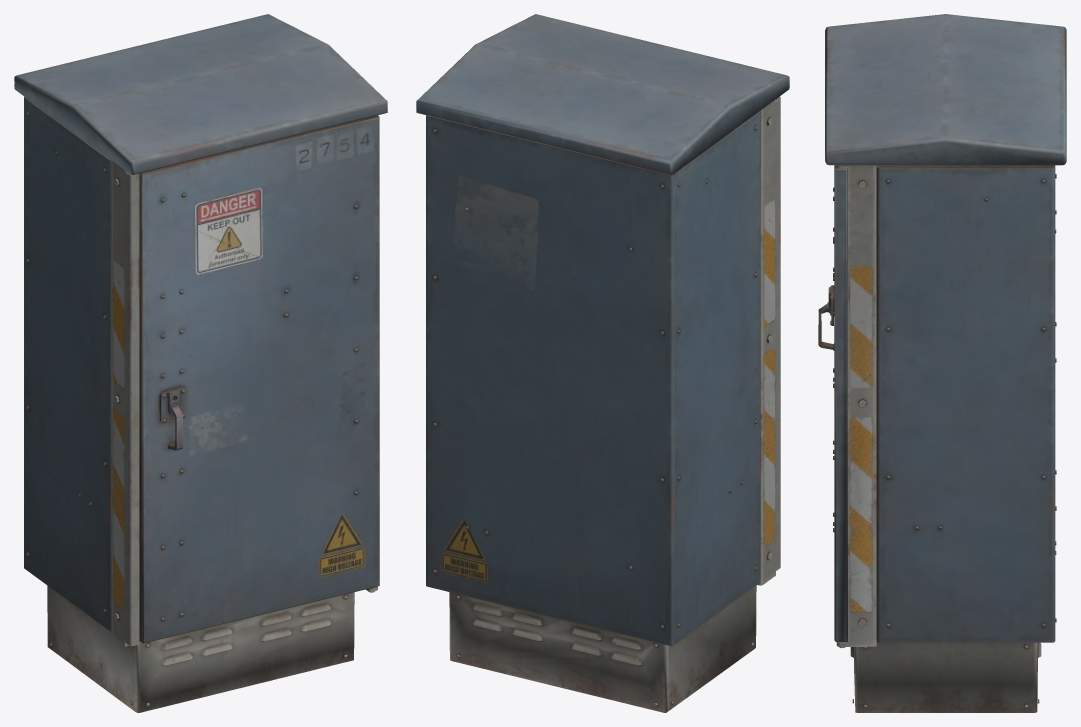
File: utility_box_01.glb
3 renders of one model, left to right at view 1: azimuth 30°, elevation 25°; view 2: azimuth 150°, elevation 25°; view 3: azimuth 270°, elevation 25°, orthographic.
Parts seen in each view (by area): view 1: utility_box_01_box; view 2: utility_box_01_box; view 3: utility_box_01_box.
Boxes of the visible parts, x1,y1,x2,y2 form: utility_box_01_box: [14, 14, 387, 712]; utility_box_01_box: [416, 14, 789, 712]; utility_box_01_box: [818, 14, 1066, 712].
Bounding box in the file's own units: 0.52 × 1.12 × 0.432.
1 material, 1 textured.
